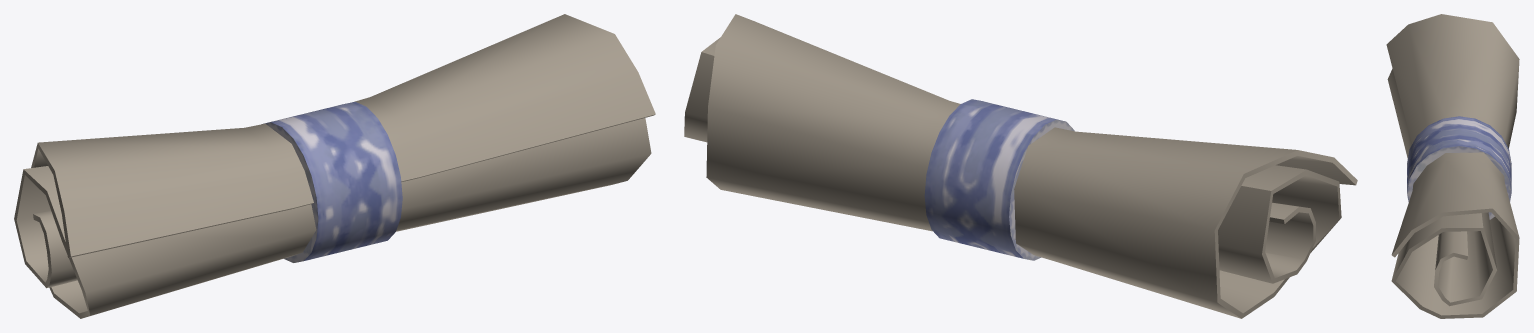
Rendered from Scroll_1.fbx.
3 renders of one model, left to right at view 1: azimuth 30°, elevation 25°; view 2: azimuth 150°, elevation 25°; view 3: azimuth 270°, elevation 25°, orthographic. The views are drawn at different scales.
Parts seen in each view (by area): view 1: Scroll_1; view 2: Scroll_1; view 3: Scroll_1.
Part boxes in pixels (x1,y1,x2,y2): Scroll_1: (14,14,655,318); Scroll_1: (684,14,1357,318); Scroll_1: (1386,14,1519,318).
Size of the model in its own units: 24.39 by 5.88 by 6.31.
